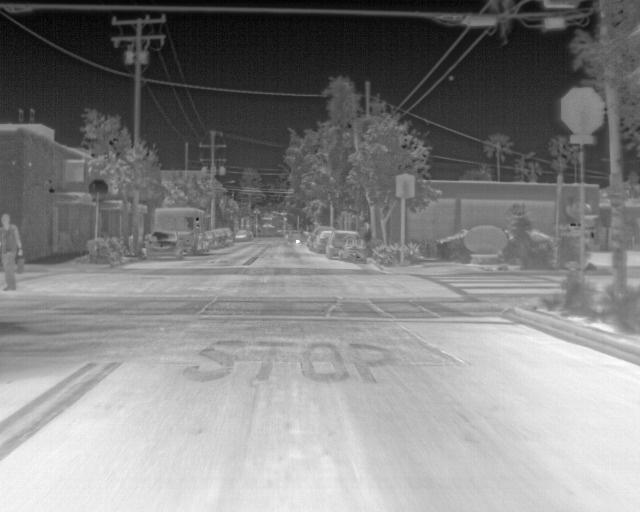bicycle: (328, 228, 364, 259), (145, 230, 183, 259), (315, 229, 335, 252), (307, 227, 324, 246), (220, 227, 237, 245), (201, 229, 217, 247), (234, 228, 253, 243)
empty: (0, 211, 27, 291)
